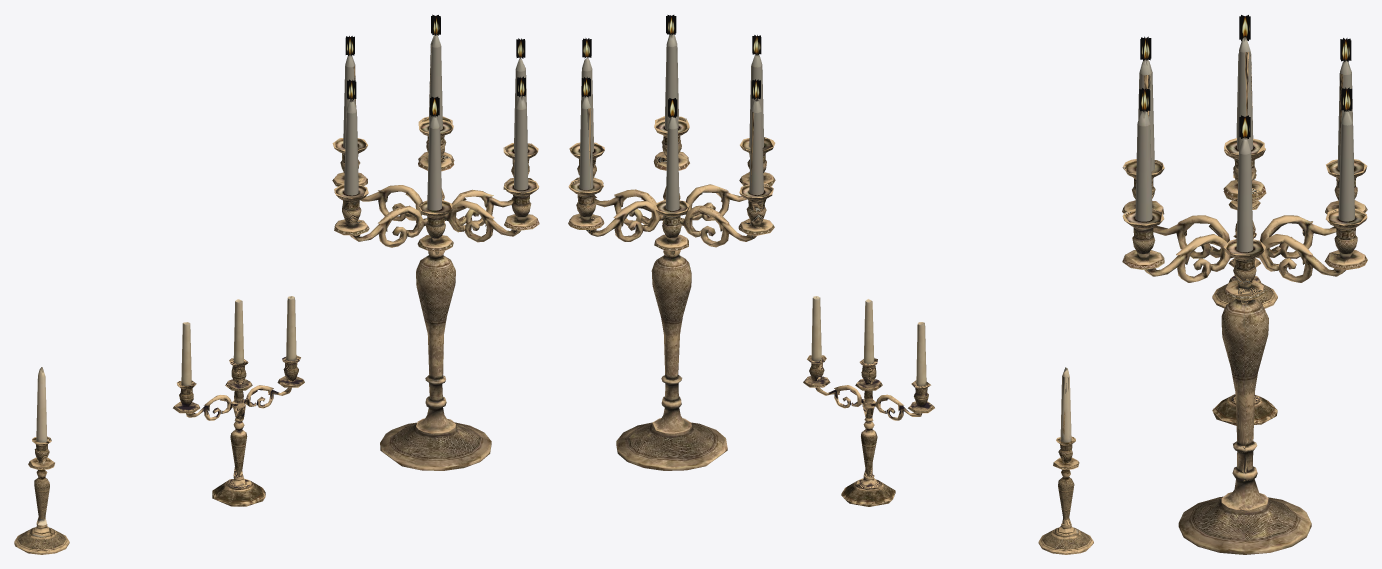
Rendered from brass_candleholders.glb.
3 views of the same model, side by side, from view 1: azimuth 30°, elevation 25°; view 2: azimuth 150°, elevation 25°; view 3: azimuth 270°, elevation 25° (orthographic). The views are drawn at different scales.
Visible parts, largest first — view 1: brass_candleholder_03, brass_candleholder_02, brass_candleholder_01; view 2: brass_candleholder_03, brass_candleholder_02, brass_candleholder_01; view 3: brass_candleholder_03, brass_candleholder_02, brass_candleholder_01.
Part boxes in pixels (x1,y1,x2,y2): brass_candleholder_03: [332, 14, 539, 470]; brass_candleholder_02: [173, 296, 304, 506]; brass_candleholder_01: [14, 367, 69, 554]; brass_candleholder_03: [568, 15, 775, 470]; brass_candleholder_02: [803, 296, 934, 506]; brass_candleholder_01: [1038, 367, 1093, 554]; brass_candleholder_03: [1122, 15, 1367, 554]; brass_candleholder_02: [1212, 232, 1277, 425]; brass_candleholder_01: [1212, 174, 1277, 308].
Size of the model in its own units: 1.05 by 0.8353 by 0.3646.
Materials: 5 (5 with a texture image).
